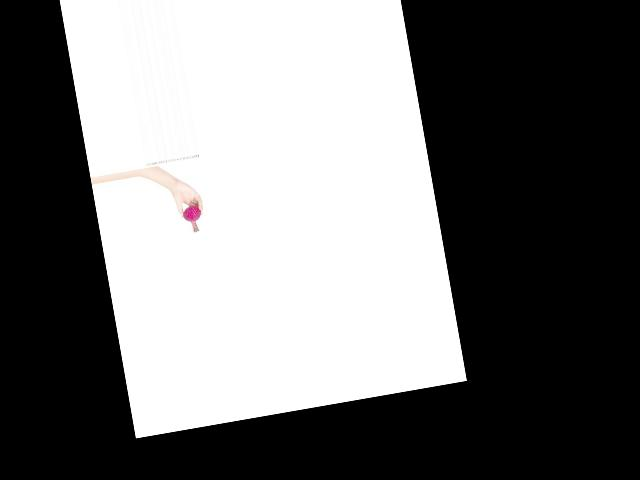beet: (182, 204, 204, 233)
